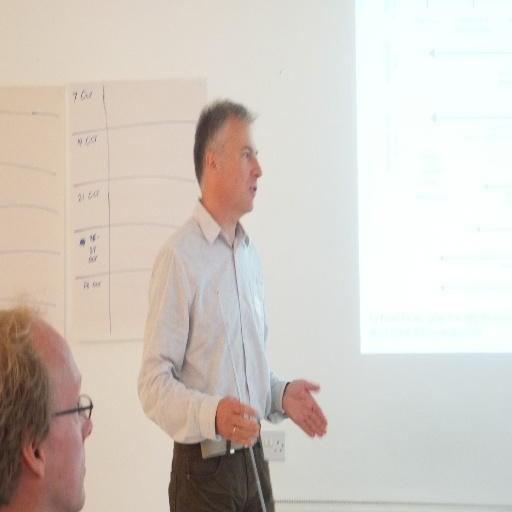hand: (286, 373, 325, 446), (214, 394, 260, 447)
